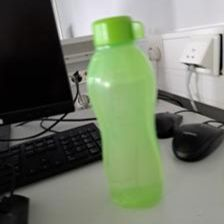bottle: (83, 14, 166, 207)
